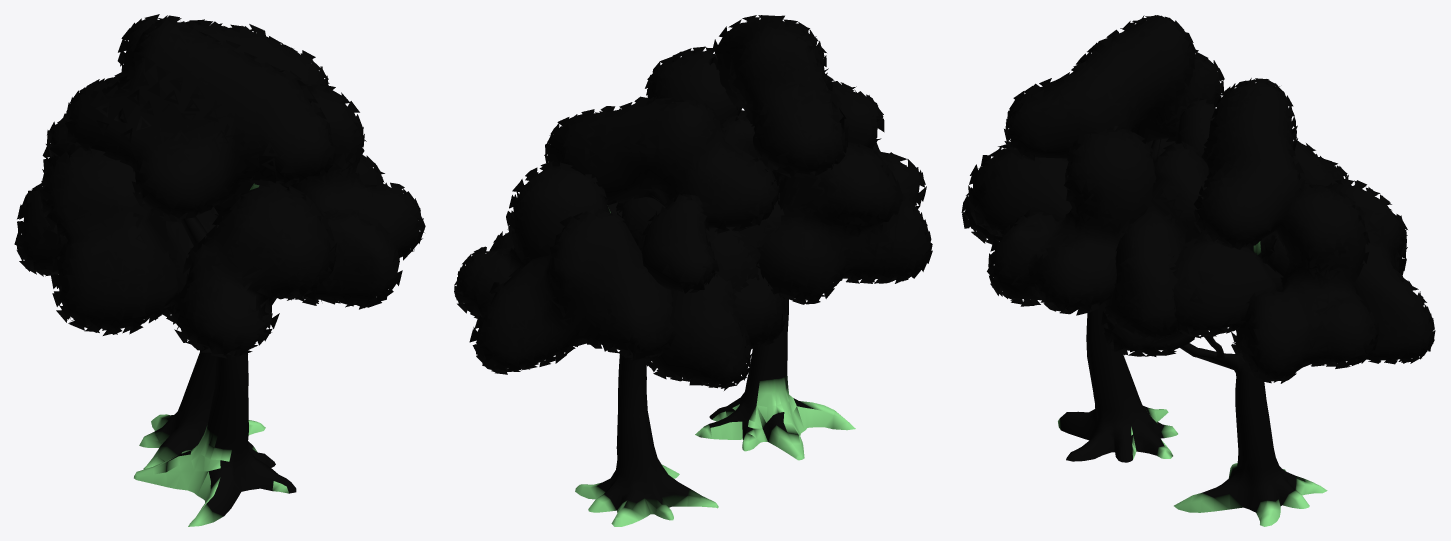
The model's file is SM_ENV_KNVLLG03_Tree_D.gltf.
3 renders of one model, left to right at view 1: azimuth 30°, elevation 25°; view 2: azimuth 150°, elevation 25°; view 3: azimuth 270°, elevation 25°, orthographic. The views are drawn at different scales.
Parts seen in each view (by area): view 1: SM_ENV_KNVLLG03_Tree_D; view 2: SM_ENV_KNVLLG03_Tree_D; view 3: SM_ENV_KNVLLG03_Tree_D.
Boxes of the visible parts, x1,y1,x2,y2 form: SM_ENV_KNVLLG03_Tree_D: [14, 14, 425, 526]; SM_ENV_KNVLLG03_Tree_D: [454, 15, 932, 526]; SM_ENV_KNVLLG03_Tree_D: [961, 15, 1435, 526].
Bounding box in the file's own units: 12 × 14.84 × 14.26.
